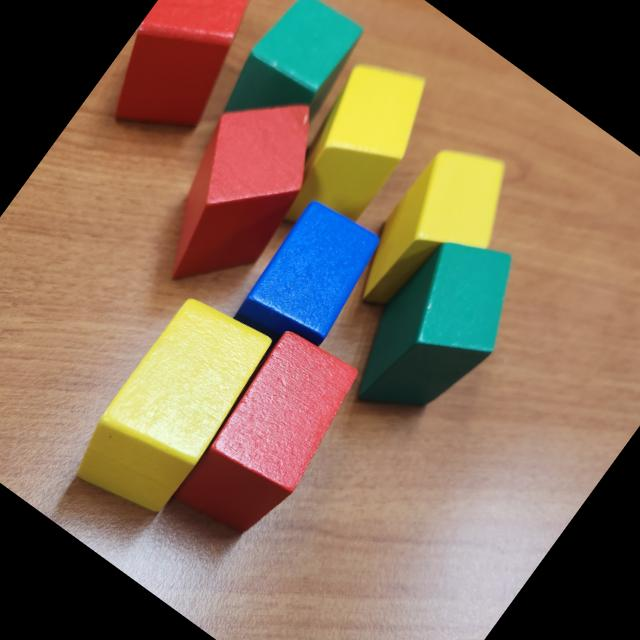blue: (225, 190, 391, 369)
green: (326, 208, 546, 450), (209, 0, 371, 158)
red: (123, 61, 357, 317), (165, 319, 373, 551), (84, 0, 292, 163)
yellow: (57, 280, 285, 533), (253, 37, 450, 257), (338, 124, 536, 342)
